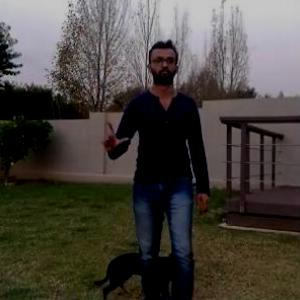land_hand: (96, 114, 132, 154)
